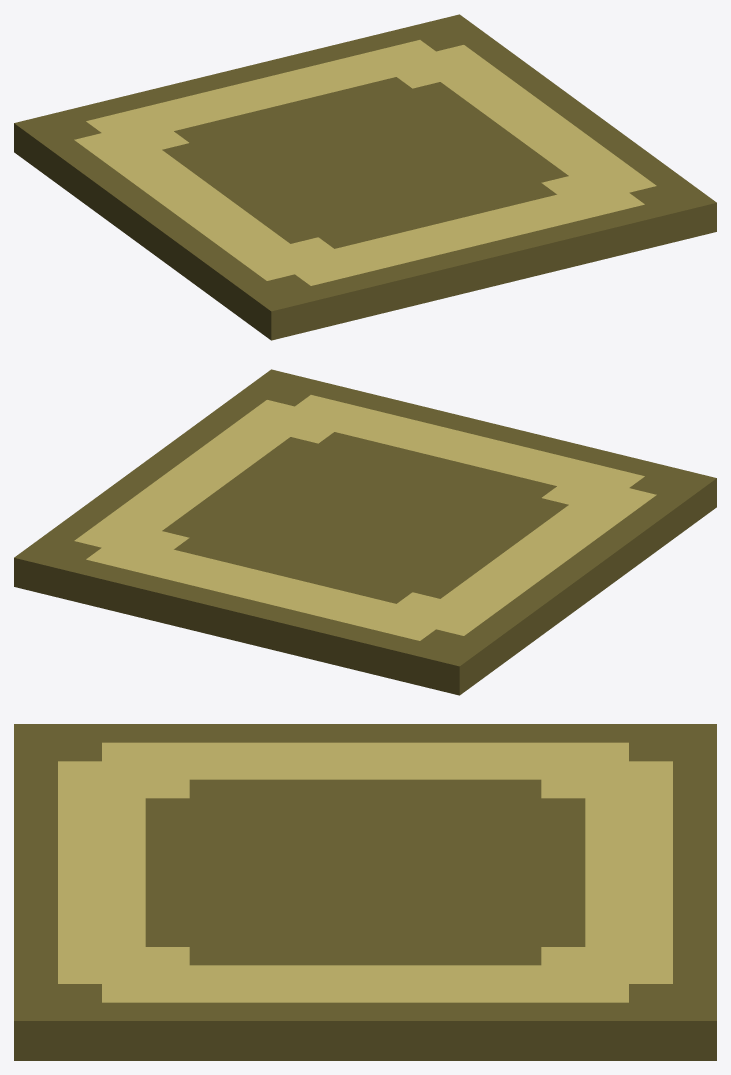
File: floor.obj
3 renders of one model, top to bottom at view 1: azimuth 30°, elevation 25°; view 2: azimuth 150°, elevation 25°; view 3: azimuth 270°, elevation 25°, orthographic. The views are drawn at different scales.
Size of the model in its own units: 1.6 by 0.1 by 1.6.
1 material, 1 textured.
